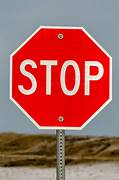stop: (9, 24, 113, 130)
